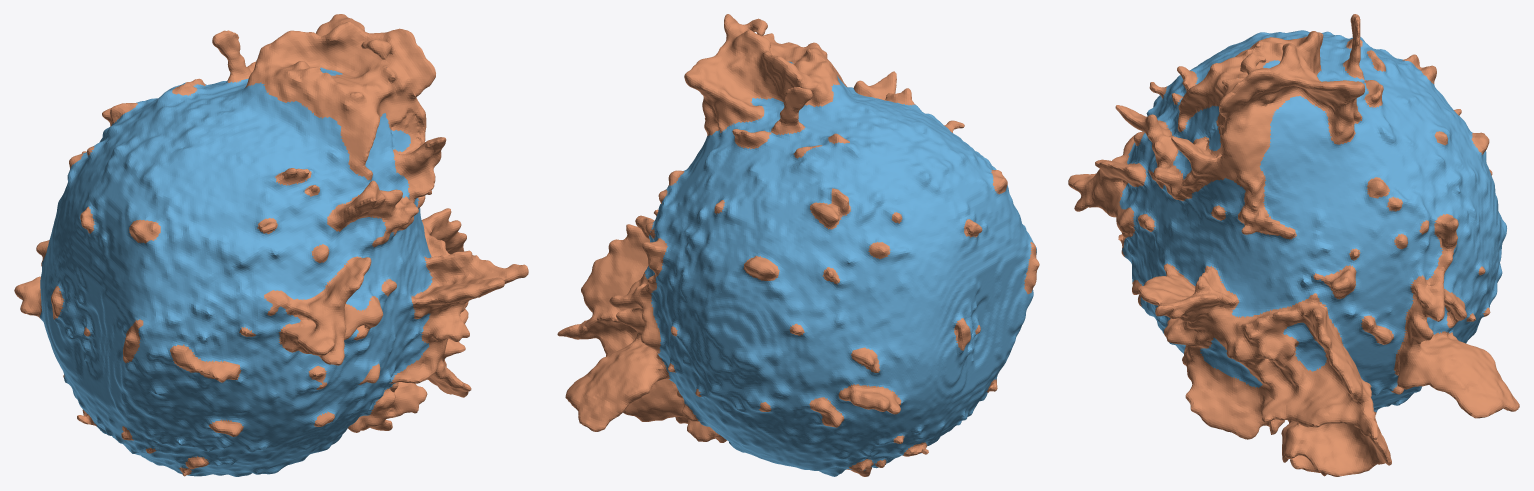
The picture shows the model from 3 angles, left to right: view 1: azimuth 30°, elevation 25°; view 2: azimuth 150°, elevation 25°; view 3: azimuth 270°, elevation 25°; orthographic projection. The views are drawn at different scales.
Bounding box in the file's own units: 178 × 170 × 170.
